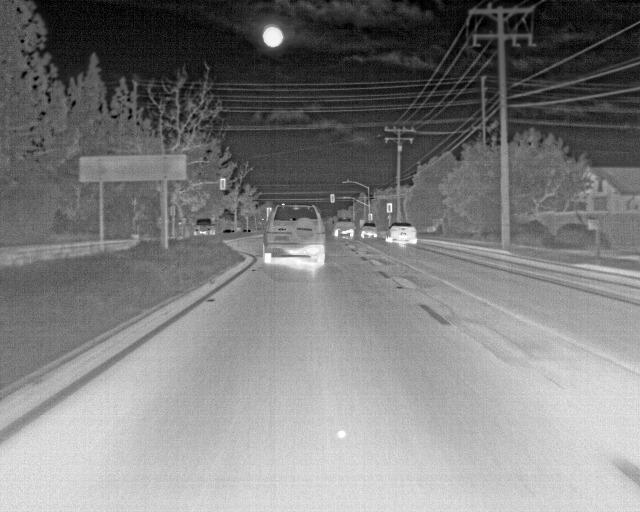car: (262, 203, 326, 264), (385, 222, 417, 244), (332, 217, 355, 237), (194, 217, 217, 236), (361, 222, 378, 238), (221, 229, 236, 233), (243, 229, 252, 232)
light: (220, 179, 226, 190), (330, 194, 335, 203), (170, 207, 175, 216), (368, 214, 372, 221)
sign: (79, 154, 187, 182), (387, 203, 392, 213)
